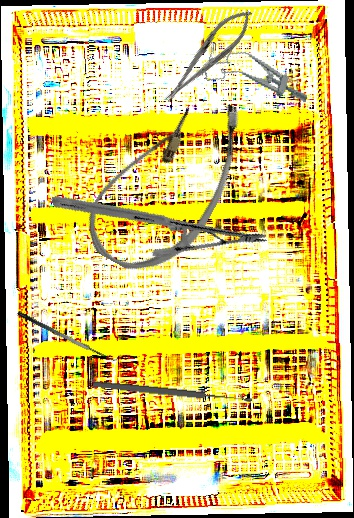Cannula: (73, 69, 263, 293)
Needle Holder: (50, 136, 268, 304), (155, 0, 261, 111)
Spatula Surgical: (16, 302, 122, 368)
Speculum: (200, 42, 315, 110)
Surgical Spoon: (92, 379, 253, 406)
